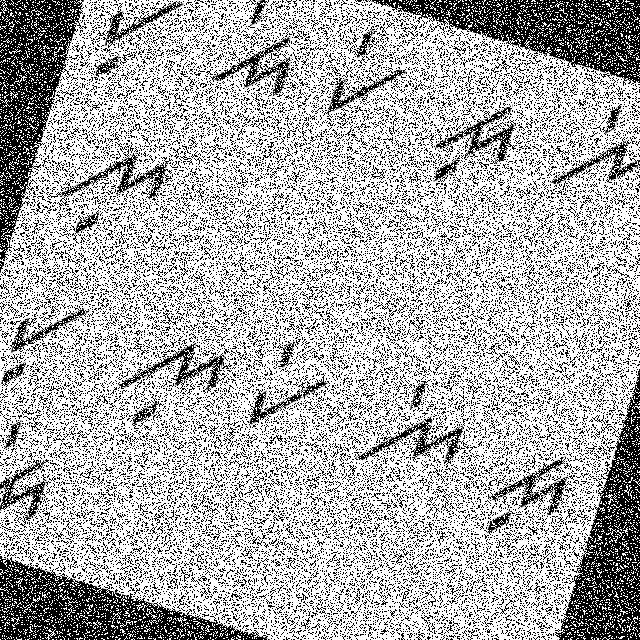de: (205, 0, 319, 109), (0, 401, 69, 533)
du: (414, 76, 532, 206), (472, 429, 582, 556)
ne: (344, 356, 482, 504), (536, 85, 639, 226)
nu: (44, 122, 180, 260), (102, 315, 237, 447)
pe: (311, 12, 420, 136), (232, 326, 340, 447)
pu: (82, 0, 197, 105), (0, 283, 96, 405)
